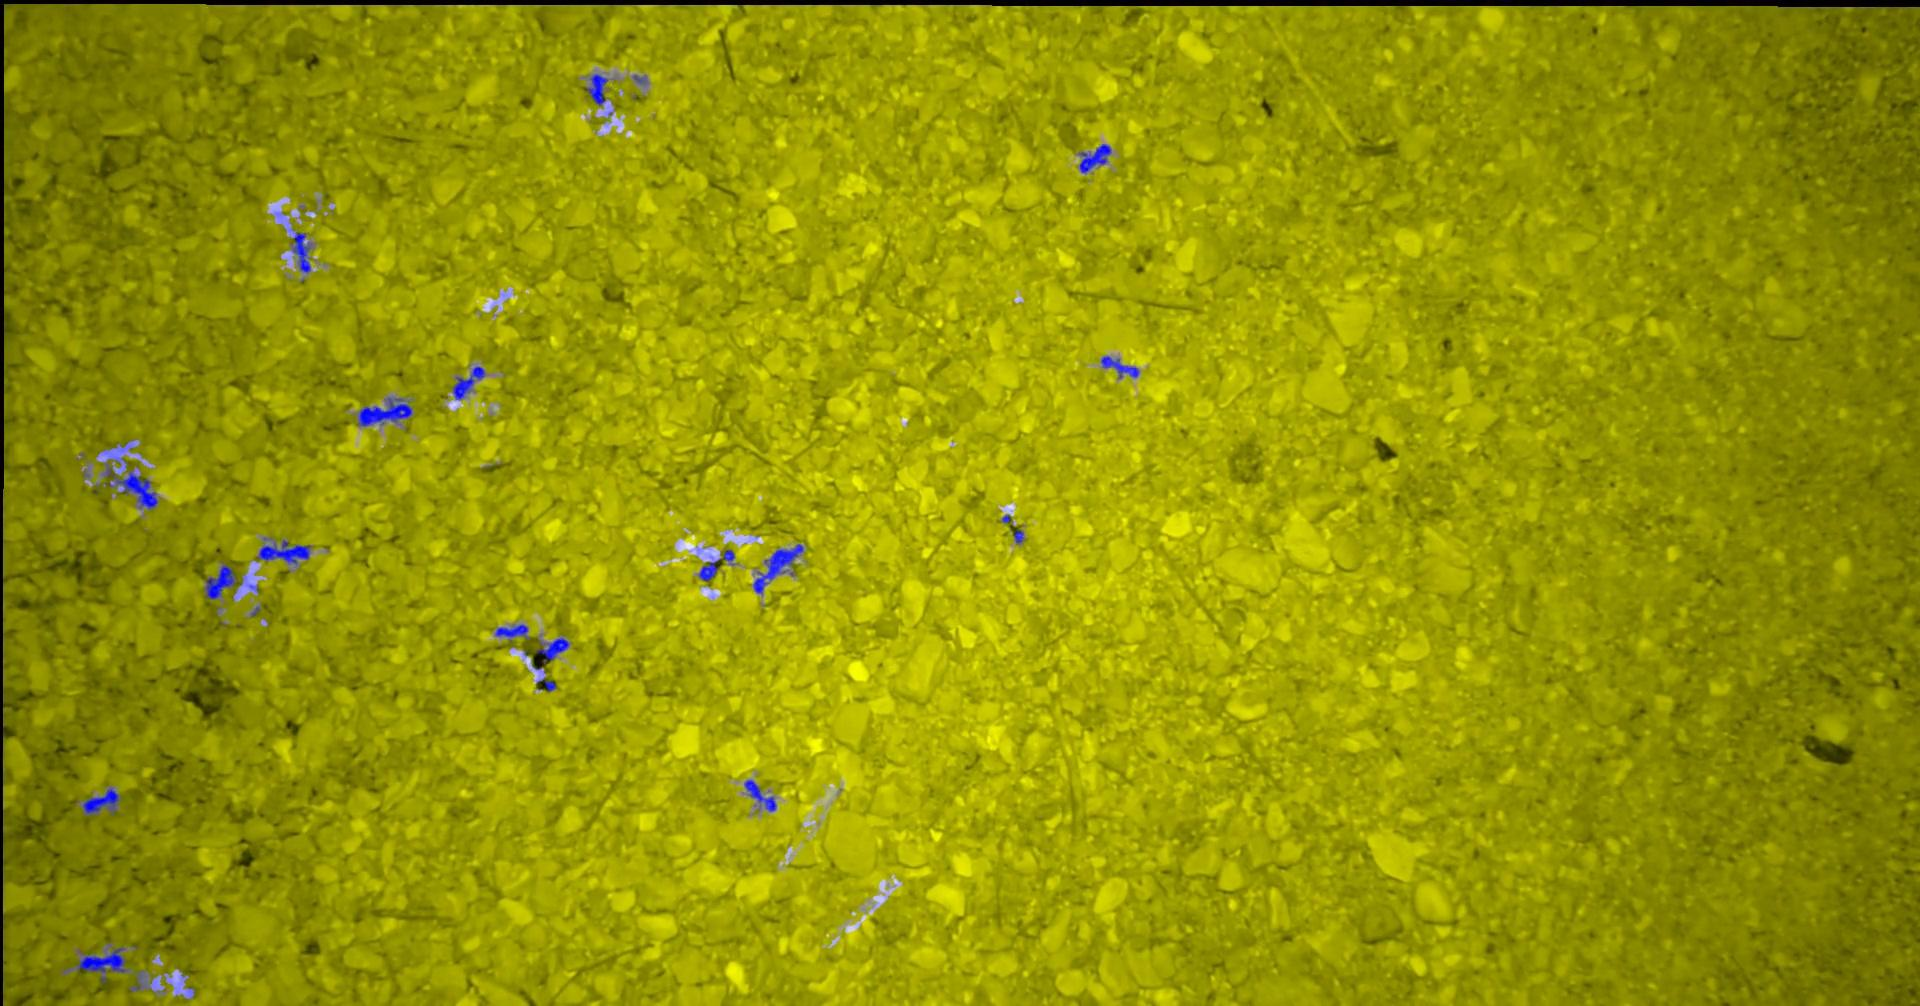ant: (752, 542, 803, 593), (105, 464, 157, 509), (76, 946, 124, 982), (358, 398, 411, 426), (257, 537, 310, 565), (698, 549, 734, 580), (204, 564, 235, 600), (452, 366, 484, 399), (744, 779, 776, 810), (83, 788, 119, 814), (1078, 144, 1110, 173), (1100, 356, 1138, 379), (536, 636, 568, 663), (585, 72, 607, 105), (292, 232, 310, 272), (494, 624, 527, 641), (538, 677, 556, 691), (1013, 530, 1023, 542)
